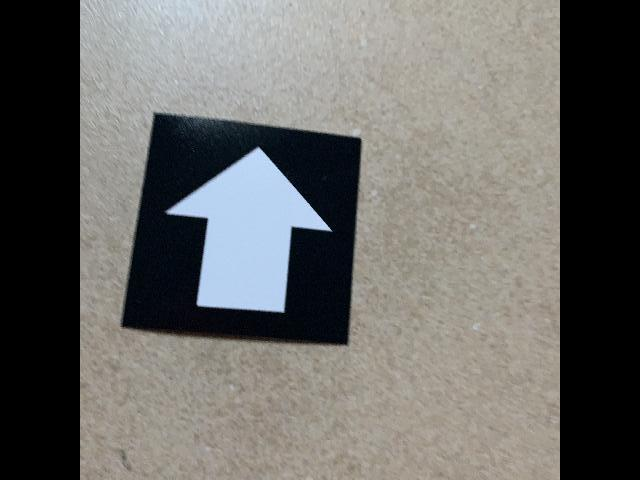up: (116, 109, 363, 348)
